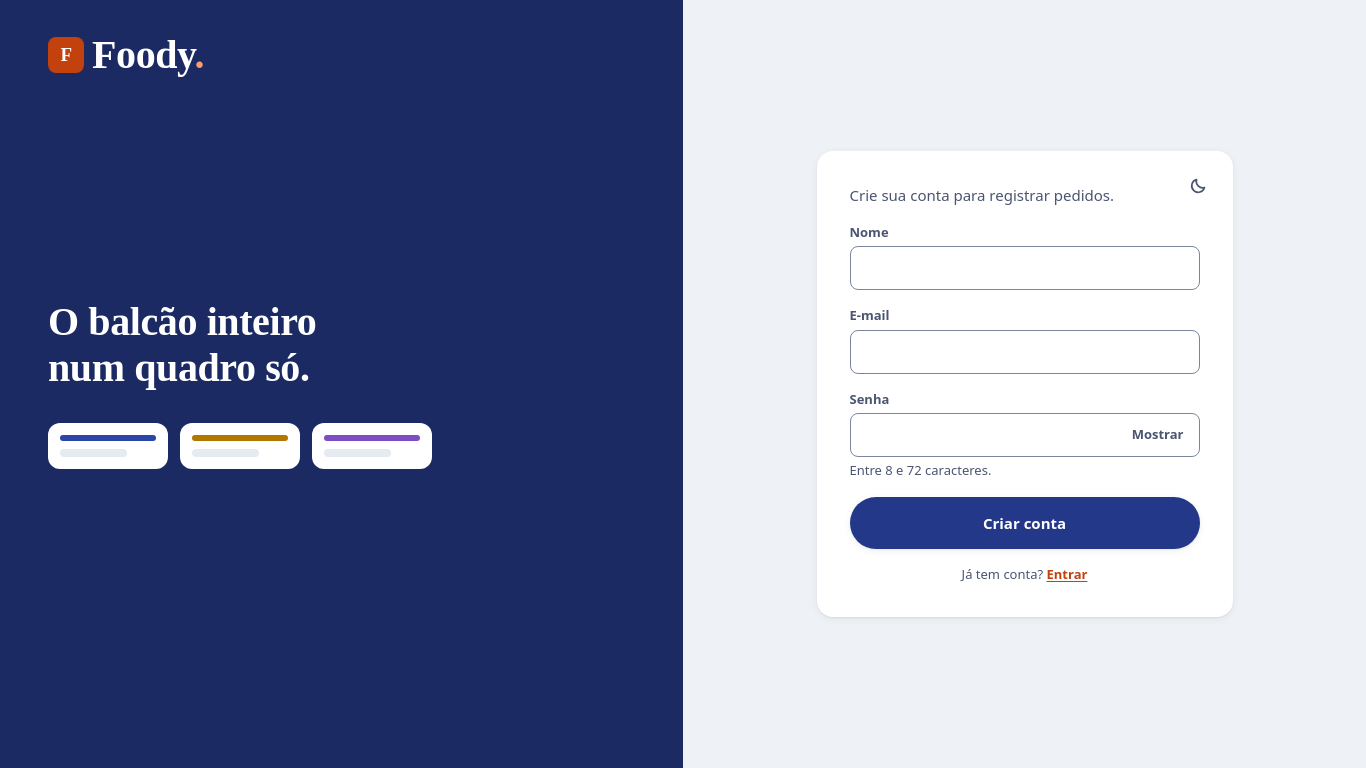
Scenario: cadastro de usuário › senha curta é recusada antes de enviar
The image size is (1366, 768).
Type "Rodrigo" into the field labelled "Nome". click: (1024, 268)
box: 850,246 -> 1200,290
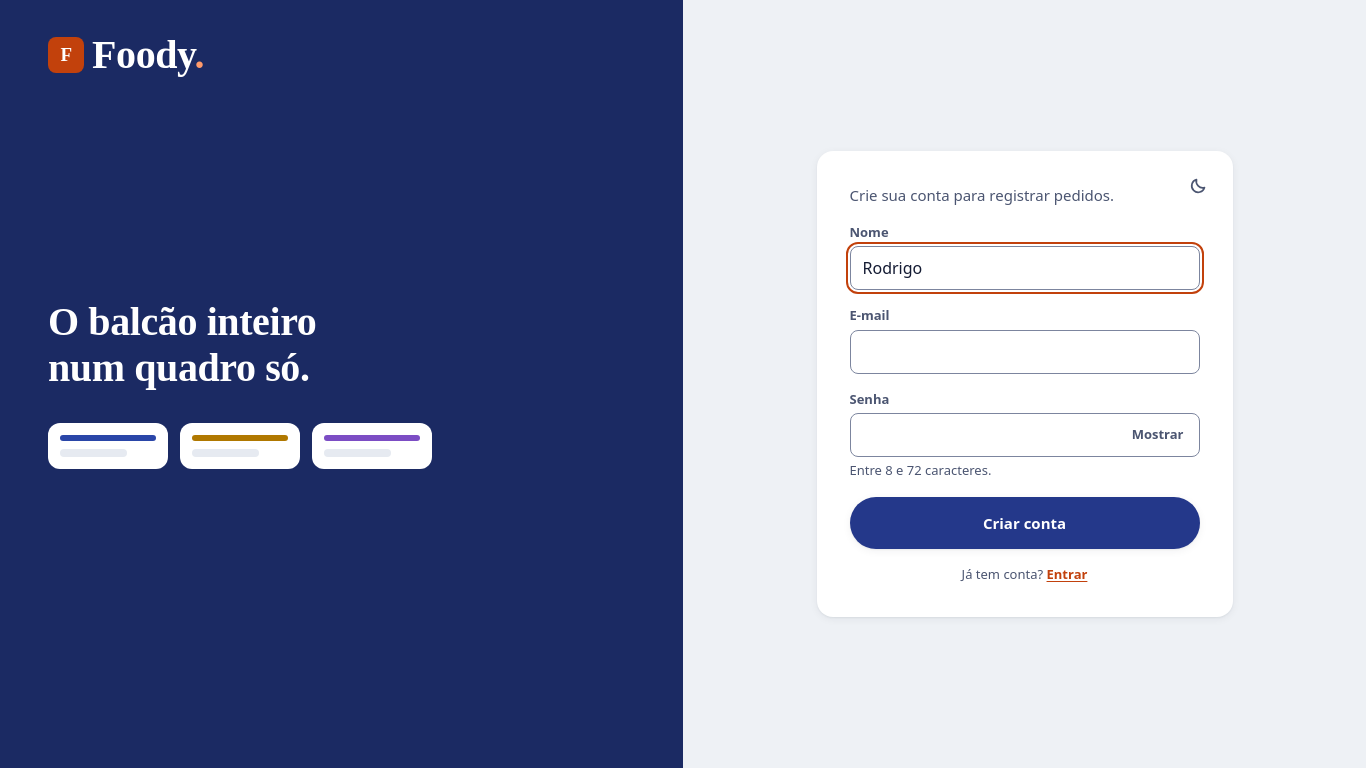
Type "rodrigo@foody.dev" into the field labelled "E-mail". click: (1024, 352)
box: 850,330 -> 1200,374
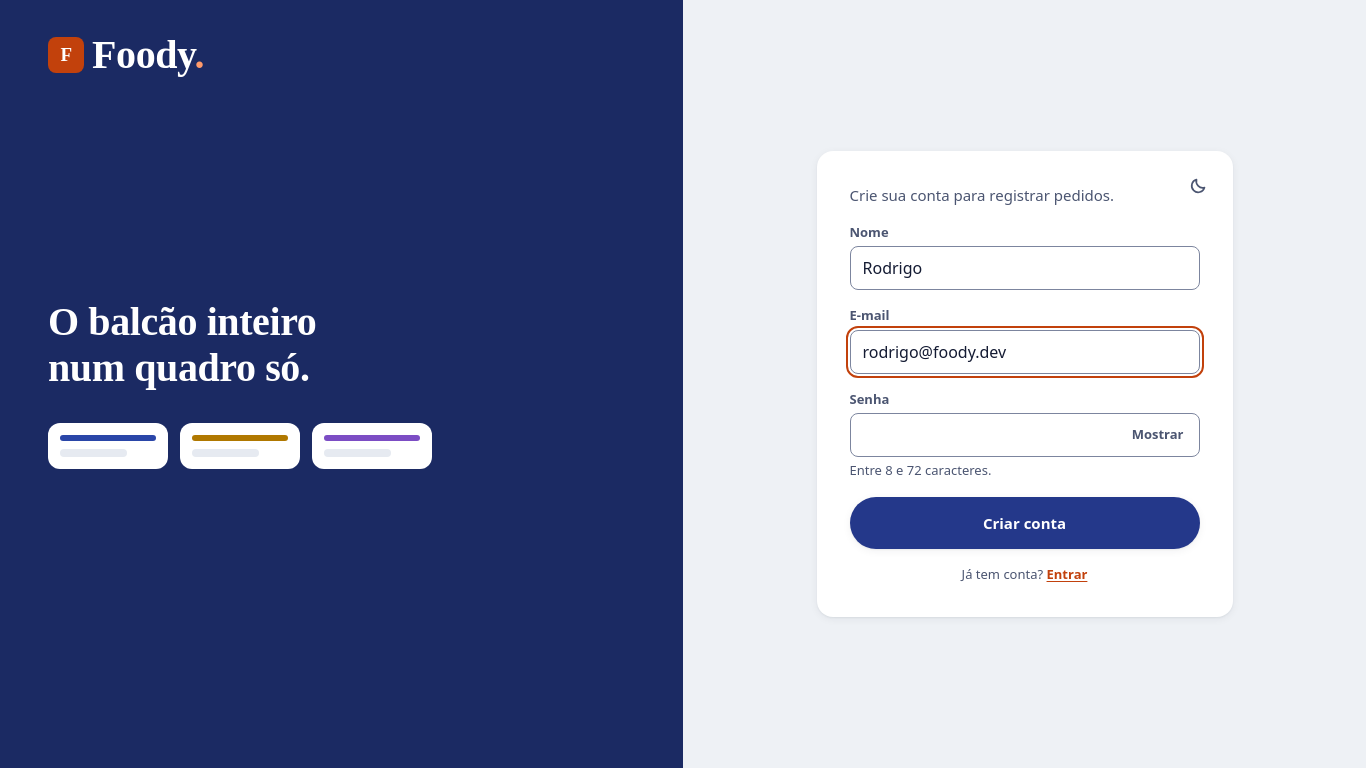
Type "123" into the password field labelled "Senha". click: (1024, 435)
box: 850,413 -> 1200,457
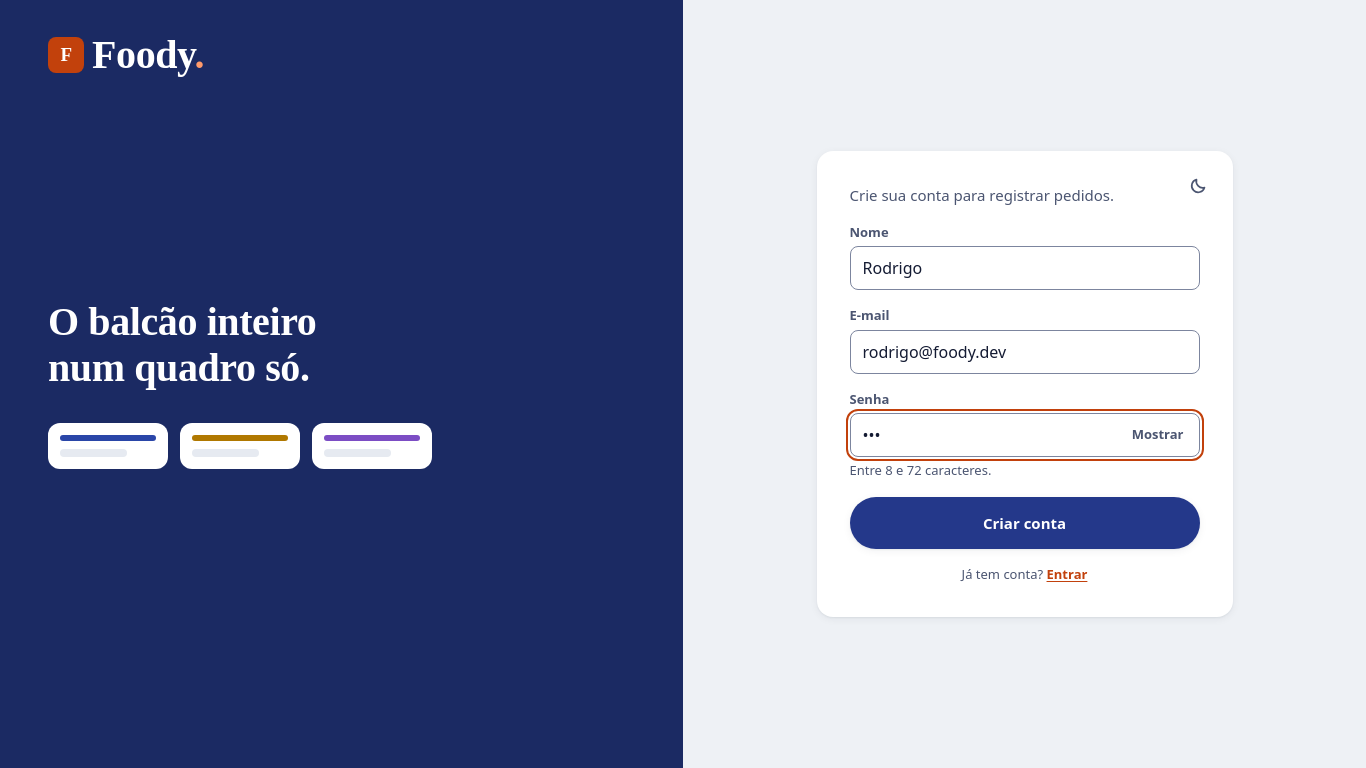
Click the button "Criar conta". click: (1024, 522)
box: 850,496 -> 1200,548
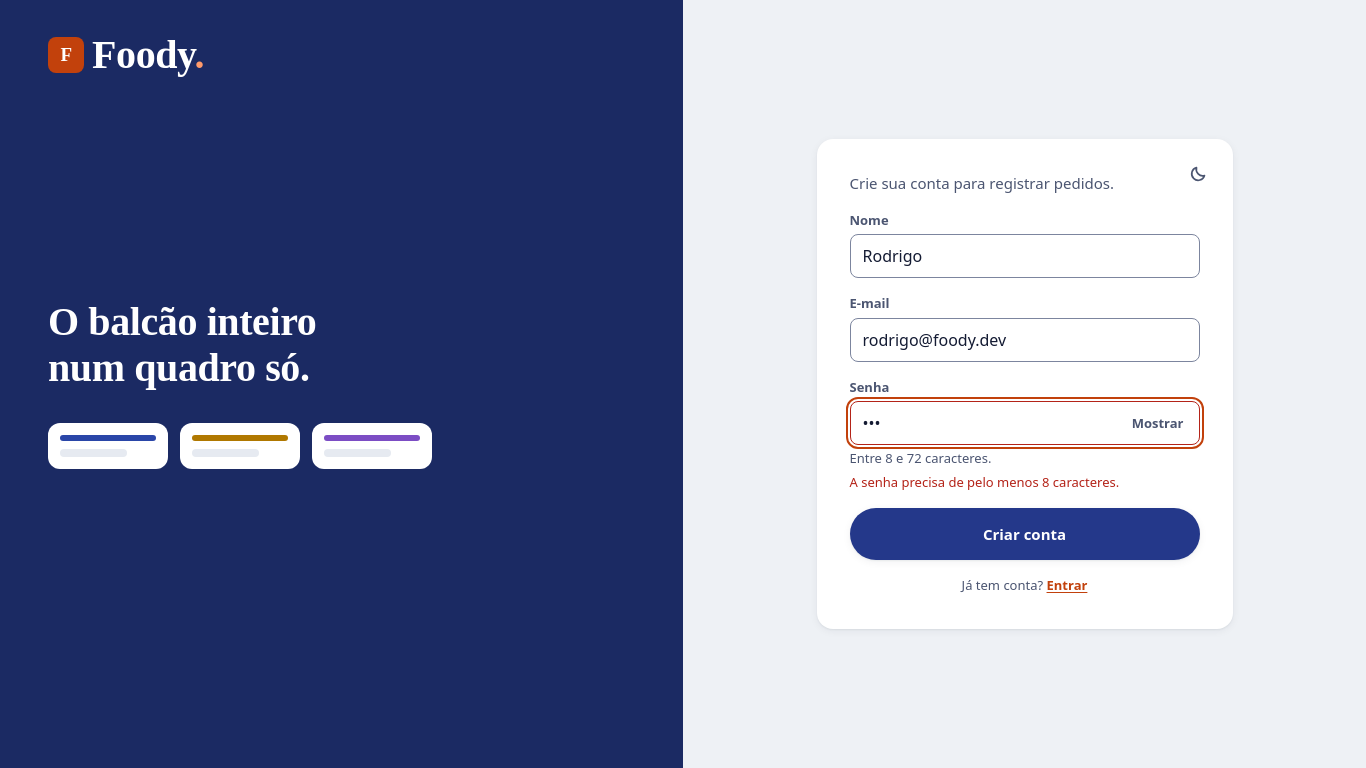
Check: the text "A senha precisa de pelo menos 8 caracteres." is shown, box 850,473 -> 1119,491
